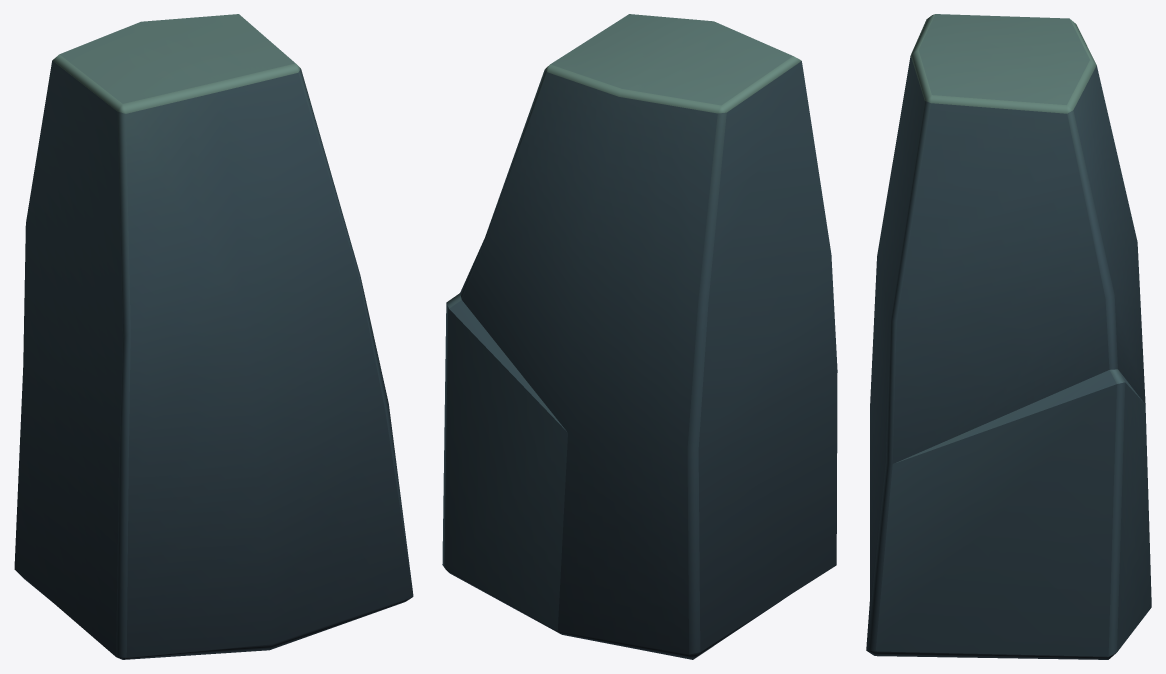
The model's file is rock_large_08.fbx.
3 views of the same model, side by side, from view 1: azimuth 30°, elevation 25°; view 2: azimuth 150°, elevation 25°; view 3: azimuth 270°, elevation 25° (orthographic). The views are drawn at different scales.
Visible parts, largest first — view 1: rock_large_08; view 2: rock_large_08; view 3: rock_large_08.
Part boxes in pixels (x1,y1,x2,y2): rock_large_08: (14,14,413,659); rock_large_08: (442,14,837,659); rock_large_08: (866,14,1151,659).
Bounding box in the file's own units: 954 × 1709 × 811.
